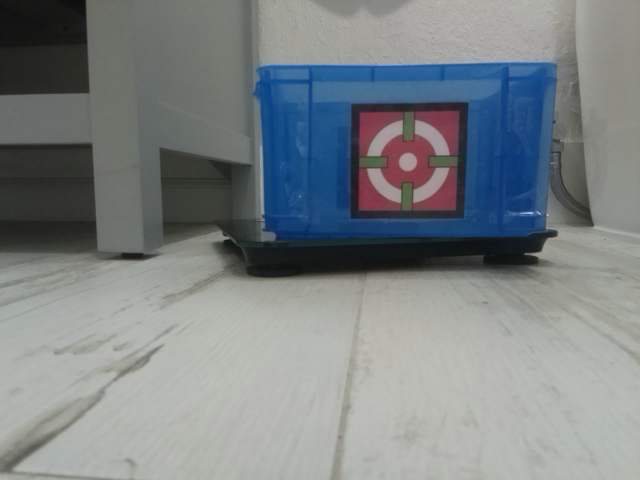drop-bin: (349, 100, 469, 220)
